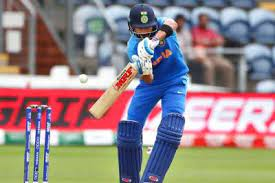bottom left: (84, 104, 93, 114)
bottom right: (95, 113, 104, 124)
top left: (126, 60, 134, 67)
top right: (133, 68, 142, 77)
